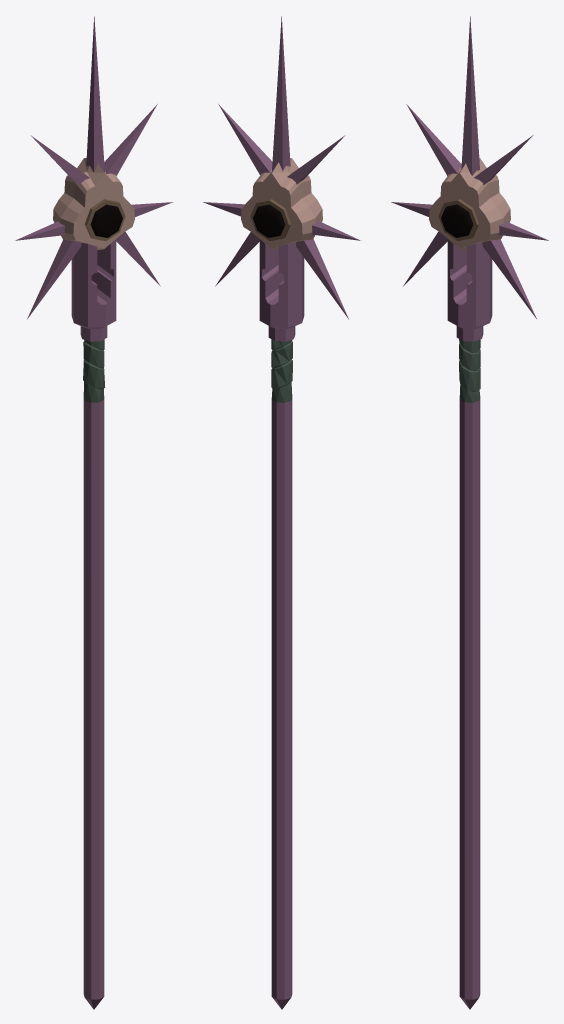
Rendered from cane-17.glb.
The picture shows the model from 3 angles, left to right: view 1: azimuth 30°, elevation 25°; view 2: azimuth 150°, elevation 25°; view 3: azimuth 330°, elevation 25°; orthographic projection.
Visible parts, largest first — view 1: cane_17; view 2: cane_17; view 3: cane_17.
Boxes of the visible parts, left/top/right/bottom form: cane_17: left=15, top=16, right=172, bottom=1009; cane_17: left=203, top=16, right=361, bottom=1009; cane_17: left=391, top=16, right=548, bottom=1009.
Size of the model in its own units: 31.86 by 190 by 10.75.
Materials: 1 (1 with a texture image).
